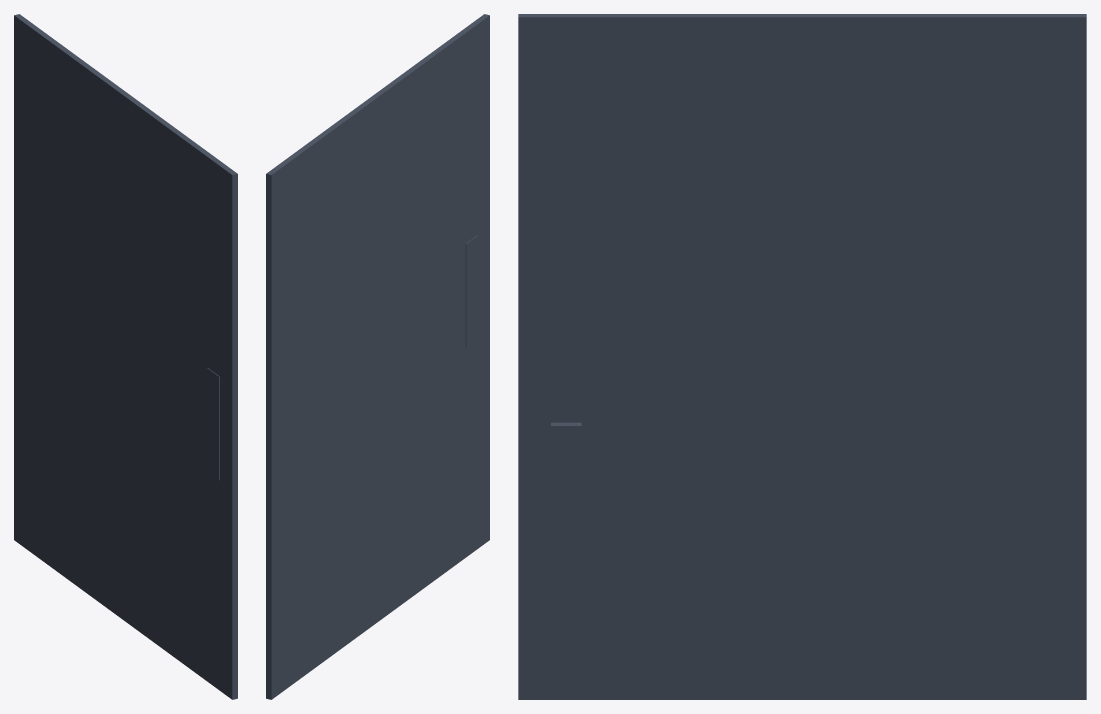
The model's file is hydrant_door.fbx.
The picture shows the model from 3 angles, left to right: view 1: azimuth 30°, elevation 25°; view 2: azimuth 150°, elevation 25°; view 3: azimuth 270°, elevation 25°; orthographic projection. The views are drawn at different scales.
Parts seen in each view (by area): view 1: Cube.001; view 2: Cube.001; view 3: Cube.001.
Part boxes in pixels (<box>): Cube.001: <box>14,14,237,699</box>; Cube.001: <box>266,14,489,699</box>; Cube.001: <box>518,14,1086,699</box>.
Bounding box in the file's own units: 12.48 × 1006 × 759.
